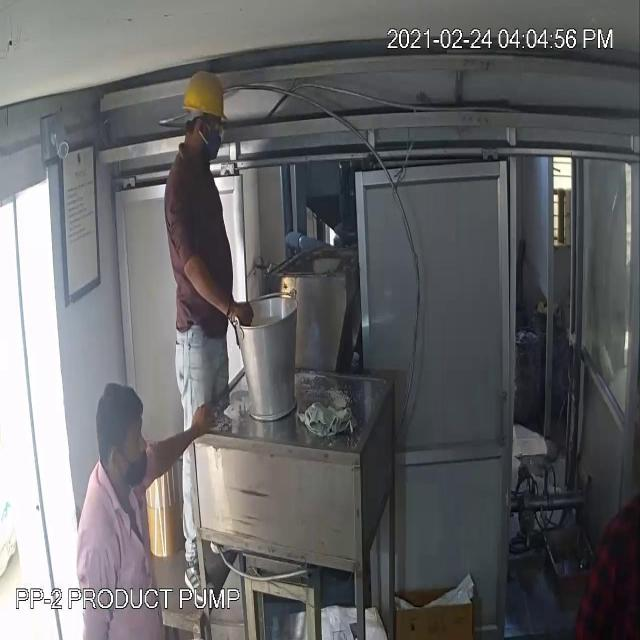helmet: (179, 68, 229, 121)
no-helmet: (87, 377, 152, 459)
